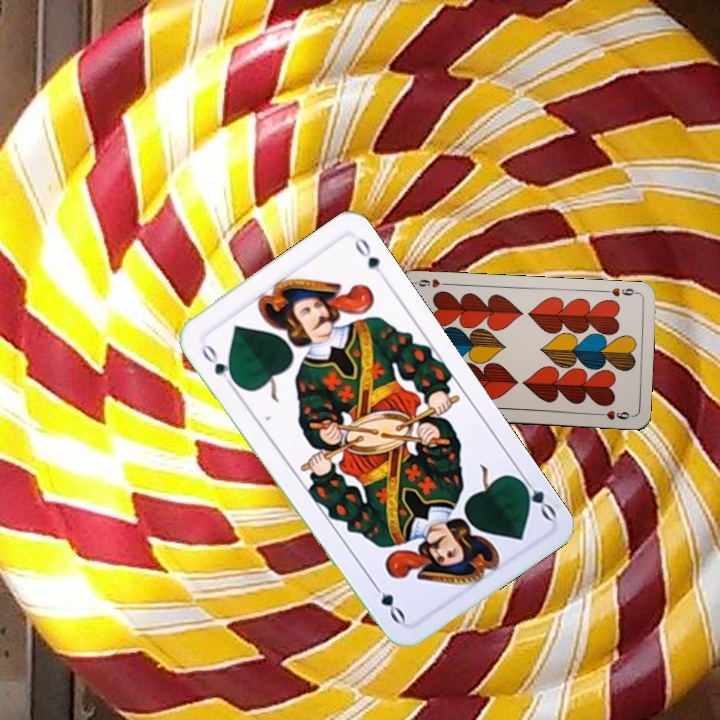GO: (512, 469, 559, 524), (197, 337, 239, 390)
H9: (608, 283, 641, 299)
